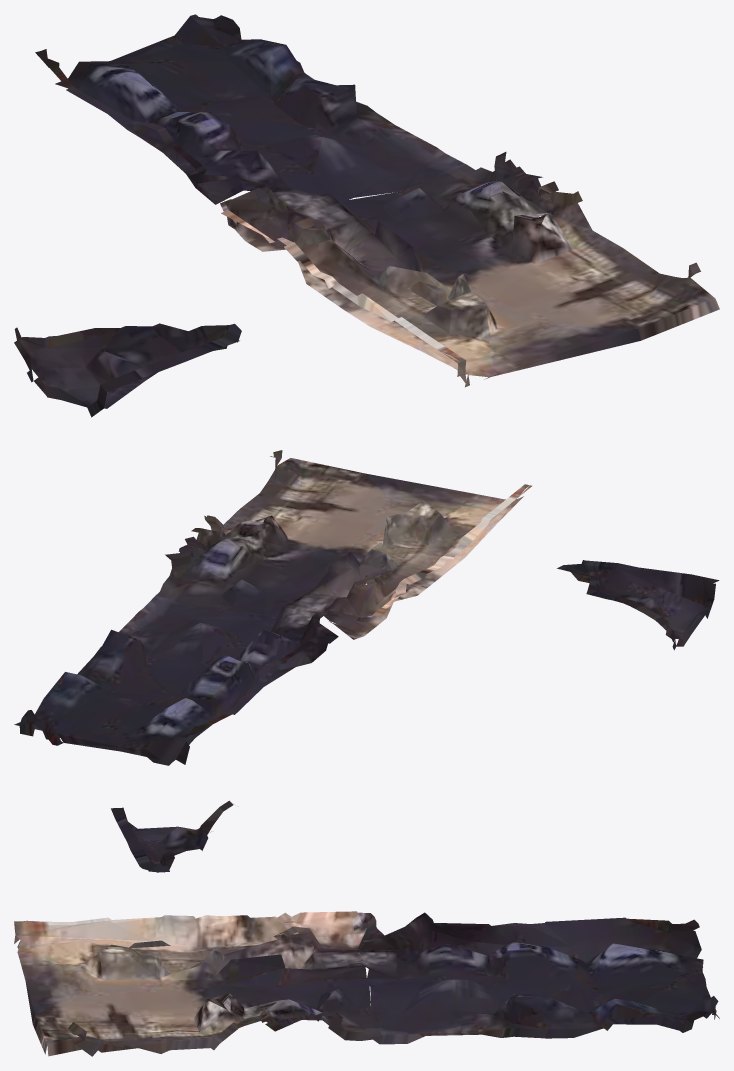
The picture shows the model from 3 angles, top to bottom: view 1: azimuth 30°, elevation 25°; view 2: azimuth 150°, elevation 25°; view 3: azimuth 270°, elevation 25°; orthographic projection. The views are drawn at different scales.
Parts seen in each view (by area): view 1: Mesh_0; view 2: Mesh_0; view 3: Mesh_0.
Boxes of the visible parts, left/top/right/bottom form: Mesh_0: left=14, top=14, right=719, bottom=417; Mesh_0: left=14, top=450, right=719, bottom=765; Mesh_0: left=14, top=800, right=719, bottom=1056.
Size of the model in its own units: 30.87 by 2.67 by 39.86.
1 material, 1 textured.
